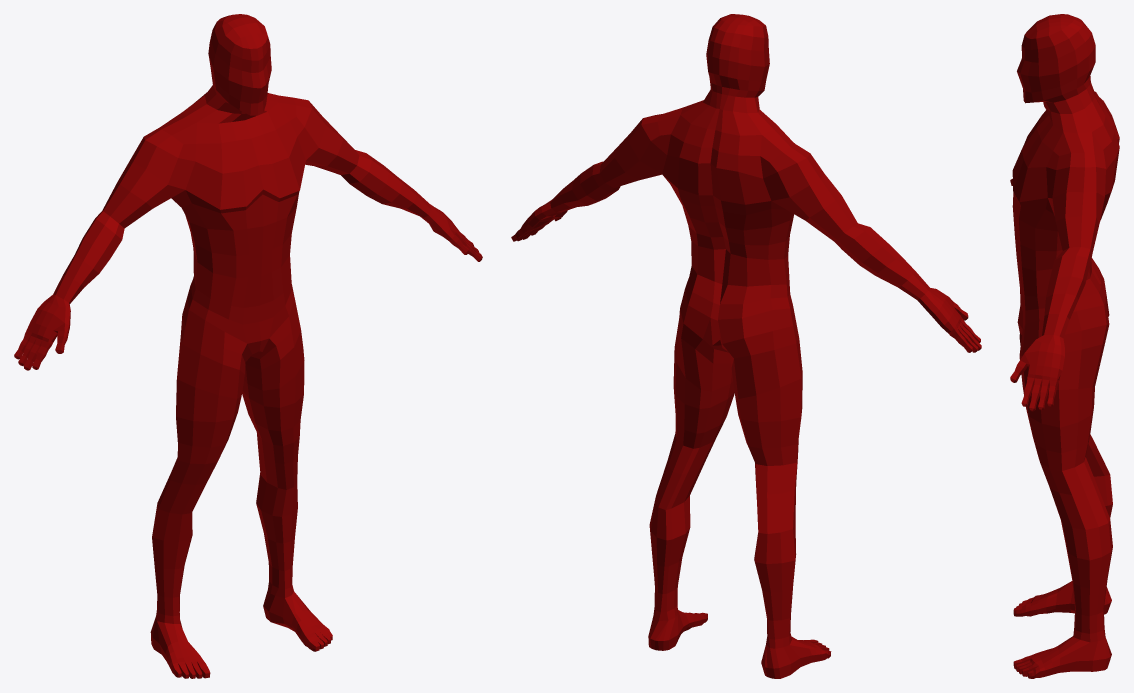
The model's file is hero_man.fbx.
3 views of the same model, side by side, from view 1: azimuth 30°, elevation 25°; view 2: azimuth 150°, elevation 25°; view 3: azimuth 270°, elevation 25° (orthographic).
Visible parts, largest first — view 1: Body; view 2: Body; view 3: Body.
Part boxes in pixels (x1=…): Body: x1=14, y1=14, x2=482, y2=678; Body: x1=511, y1=14, x2=981, y2=678; Body: x1=1010, y1=14, x2=1119, y2=678.
Bounding box in the file's own units: 1.41 × 1.84 × 0.293.
